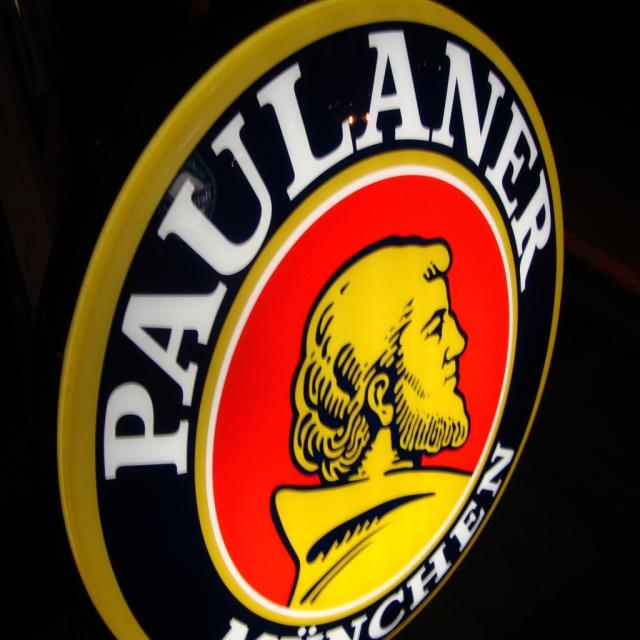paulaner: (58, 2, 567, 640)
